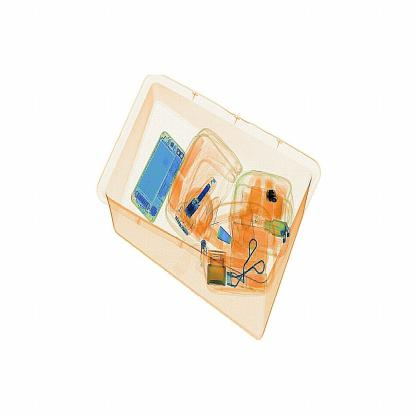scissors: (265, 186, 281, 210)
